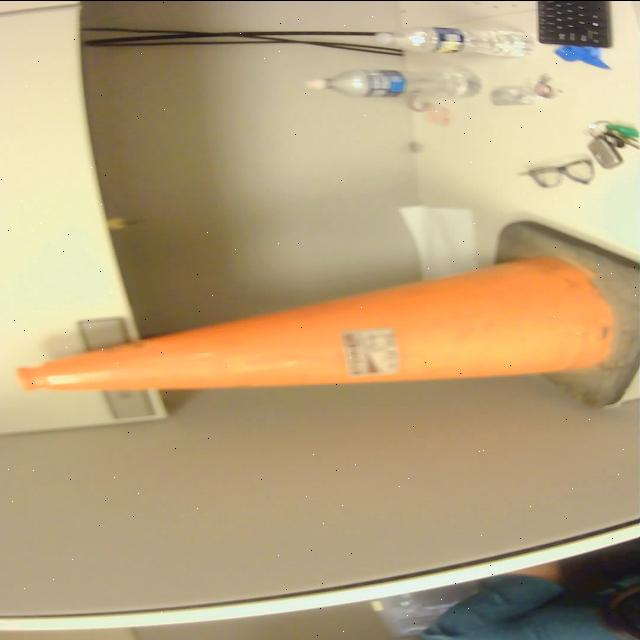traffic cone: (9, 217, 640, 413)
